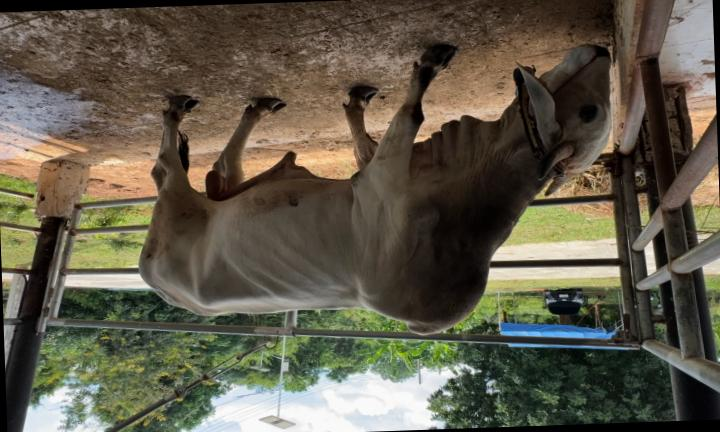Brahman: (139, 45, 610, 335)
